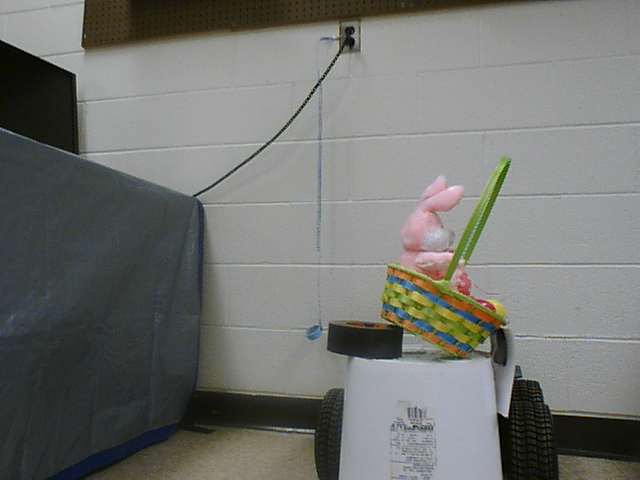bunny: (372, 144, 523, 364)
